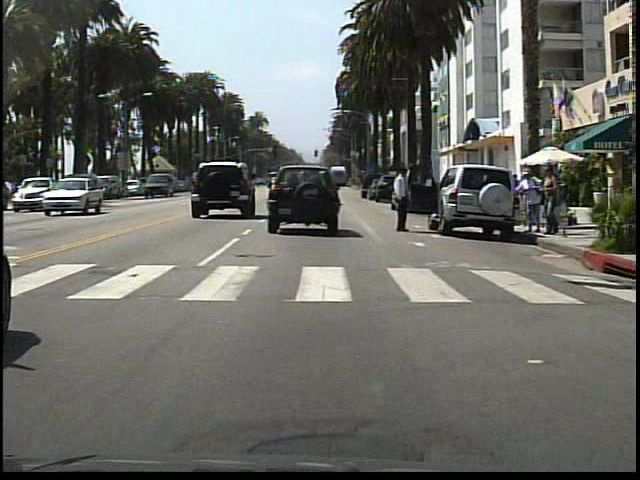person: (390, 160, 420, 237), (514, 165, 542, 238), (541, 162, 561, 240)
